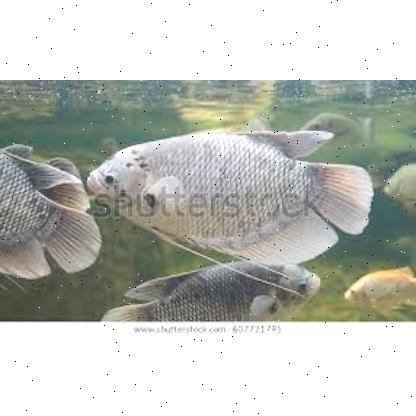gurame: (91, 128, 367, 257), (100, 261, 316, 321)
